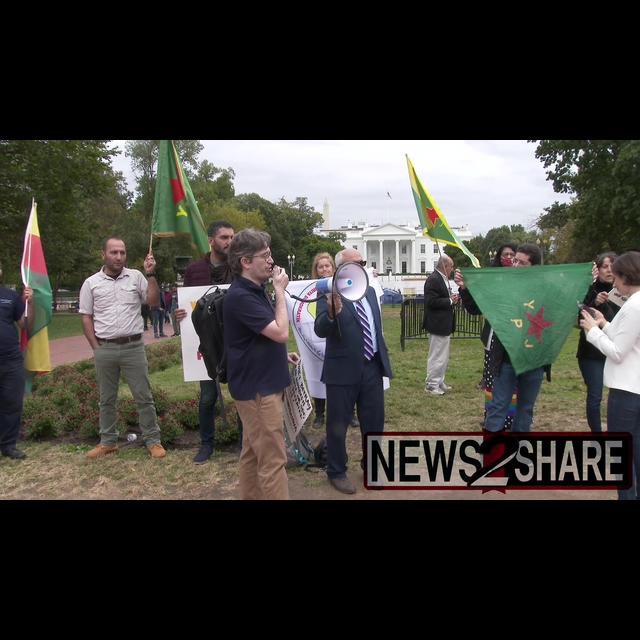YPJ: (453, 267, 576, 375), (403, 150, 485, 269)
